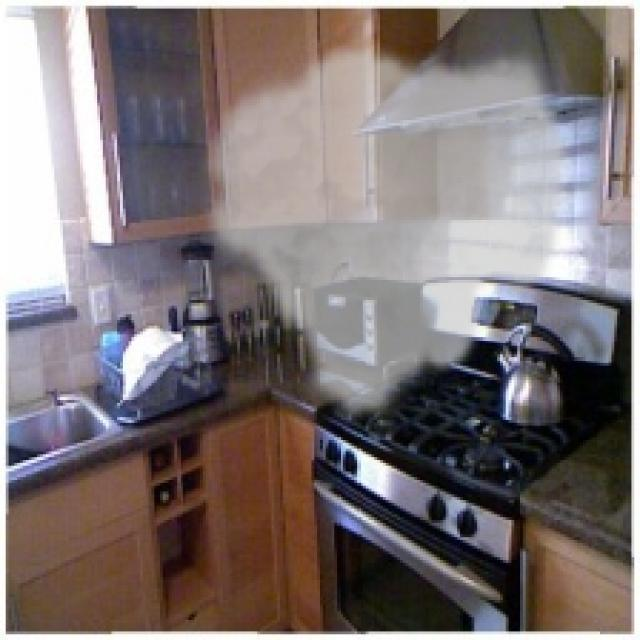Smoke: (195, 40, 574, 429)
